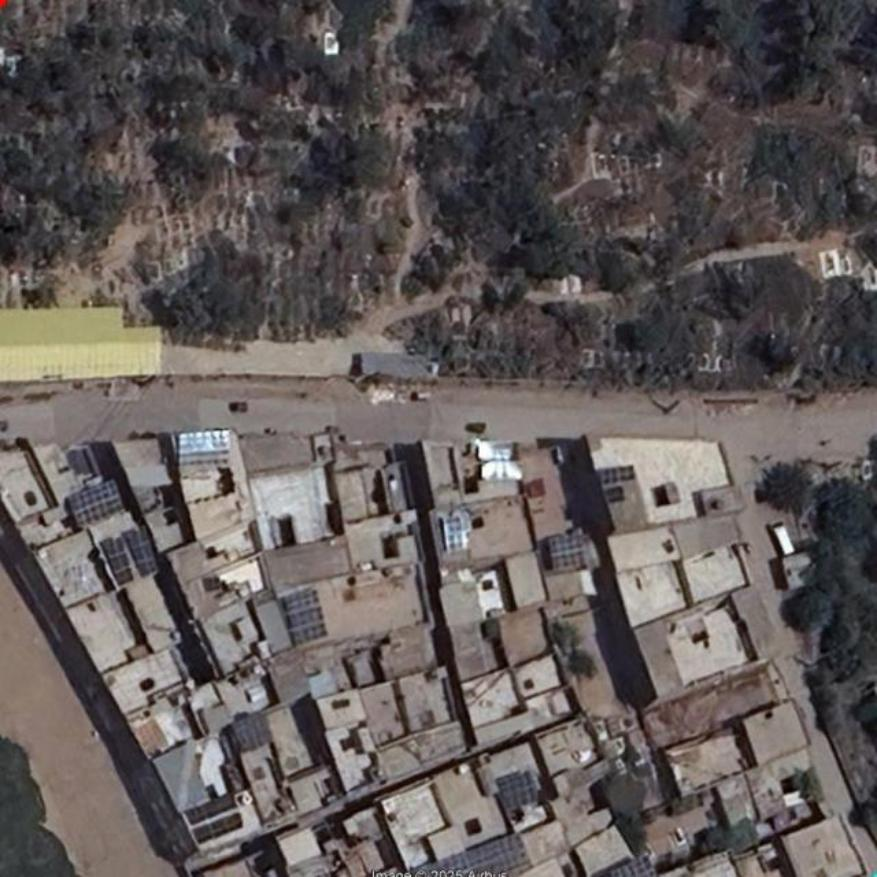Solarpanel: (399, 832, 531, 876), (67, 479, 127, 529), (283, 588, 329, 644), (124, 527, 163, 573), (496, 771, 538, 809), (103, 535, 134, 585), (195, 813, 242, 842), (545, 536, 588, 567), (177, 430, 228, 454), (604, 859, 655, 876), (444, 517, 469, 549), (598, 465, 634, 484)
